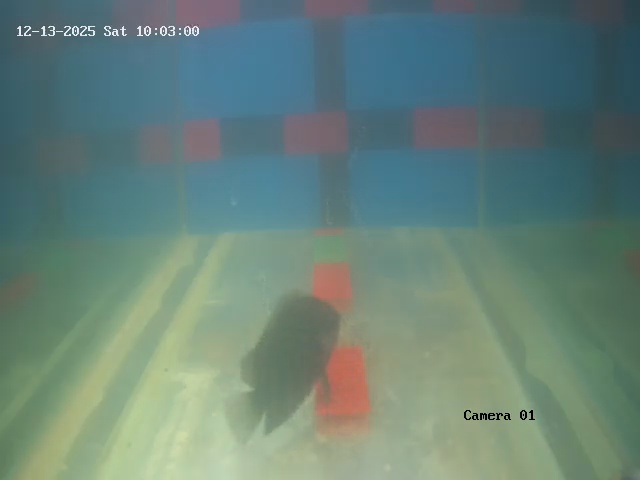fish: (233, 294, 344, 403)
